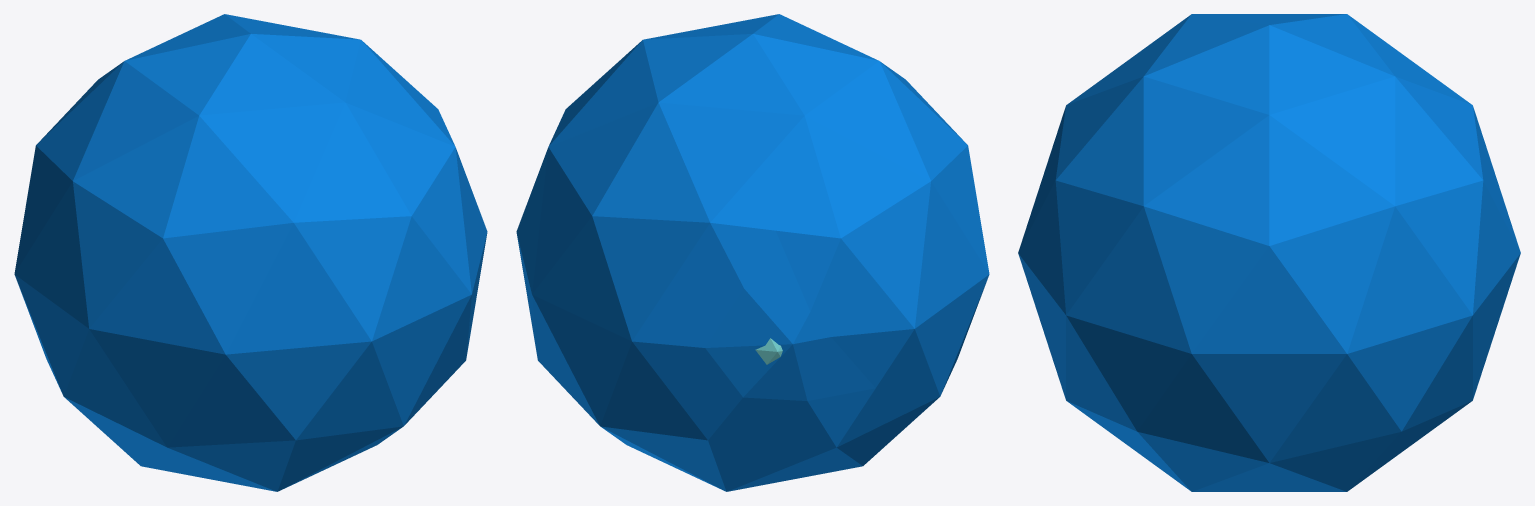
The model's file is Neptune.fbx.
3 renders of one model, left to right at view 1: azimuth 30°, elevation 25°; view 2: azimuth 150°, elevation 25°; view 3: azimuth 270°, elevation 25°, orthographic. The views are drawn at different scales.
Parts seen in each view (by area): view 1: Neptune; view 2: Neptune; view 3: Neptune.
Boxes of the visible parts, x1,y1,x2,y2 form: Neptune: (14, 14, 487, 491); Neptune: (516, 14, 989, 491); Neptune: (1018, 14, 1520, 491).
Size of the model in its own units: 190 by 200 by 200.
